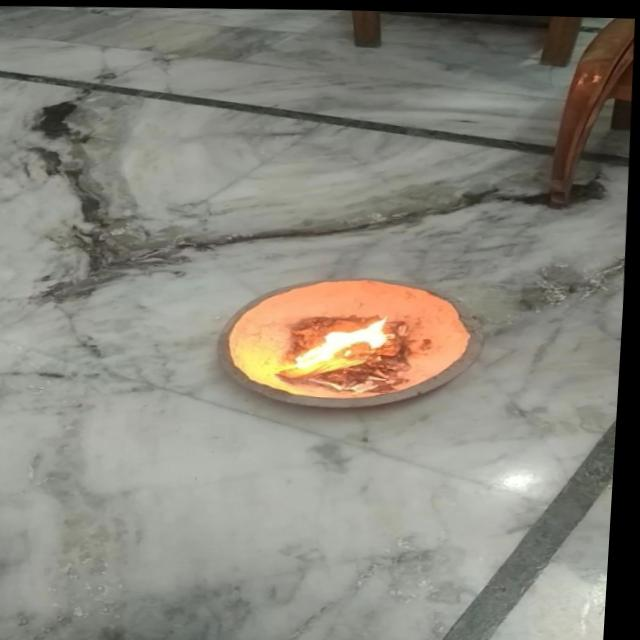fire: (287, 308, 403, 374)
